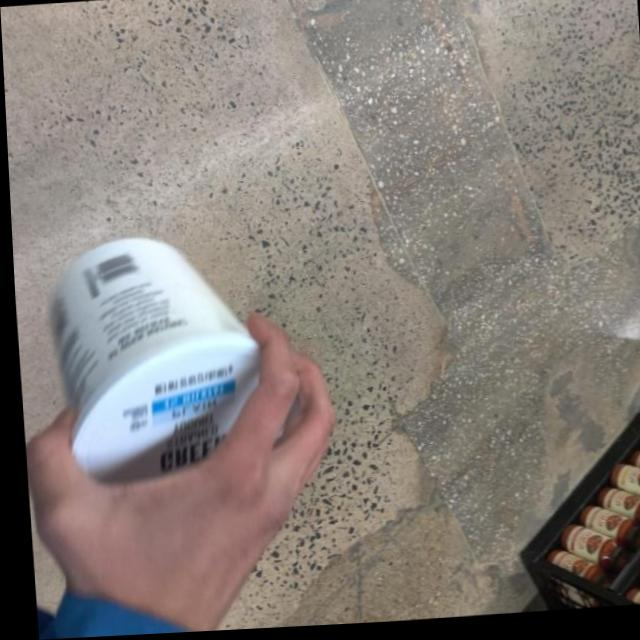Yogurt: (41, 224, 263, 501)
